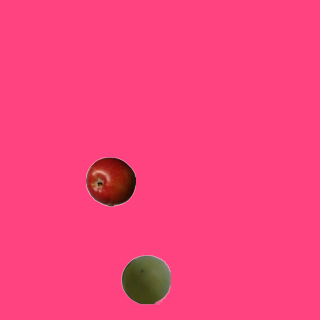Apple Braeburn: (85, 156, 135, 206)
Grape White 4: (120, 254, 170, 304)
